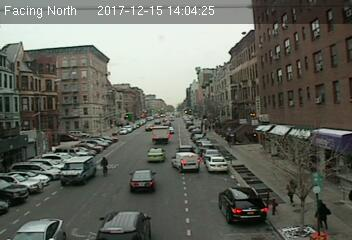bicycle: (100, 157, 109, 177)
car: (217, 182, 267, 226), (94, 211, 149, 240), (5, 219, 64, 240), (128, 168, 156, 194), (171, 153, 199, 173), (206, 156, 227, 172), (147, 148, 166, 161)
pedestrian: (312, 197, 332, 233), (285, 175, 297, 209)
truck: (61, 156, 95, 184), (152, 126, 170, 143)
